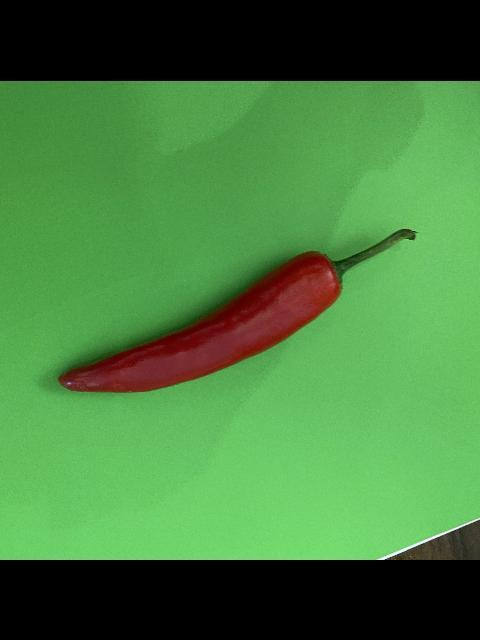chilli: (58, 228, 418, 394)
